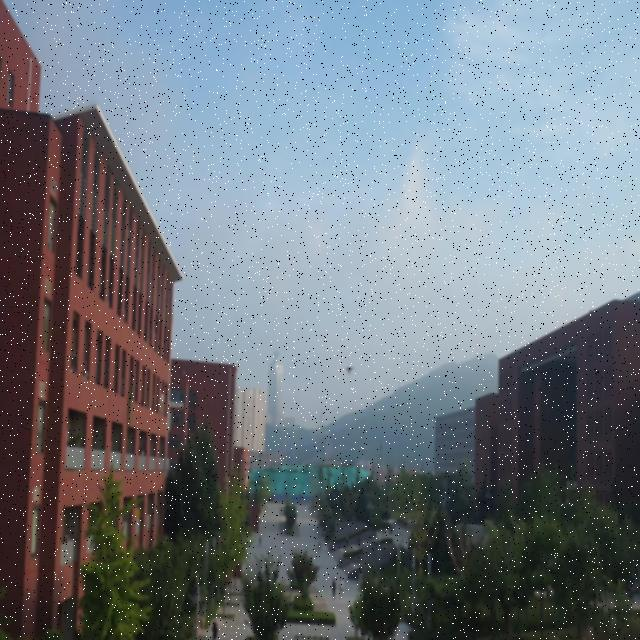UAV: (344, 366, 356, 375)
